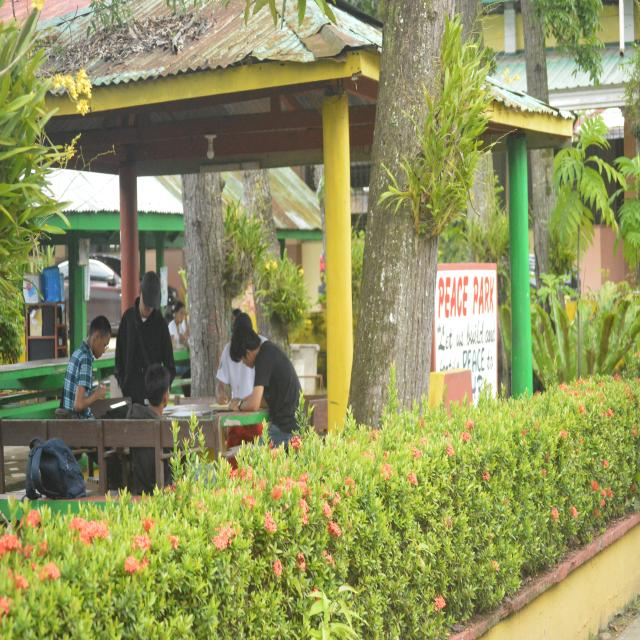person: (230, 327, 301, 446), (115, 272, 175, 404), (61, 316, 111, 419), (127, 364, 170, 419), (217, 342, 254, 403)
